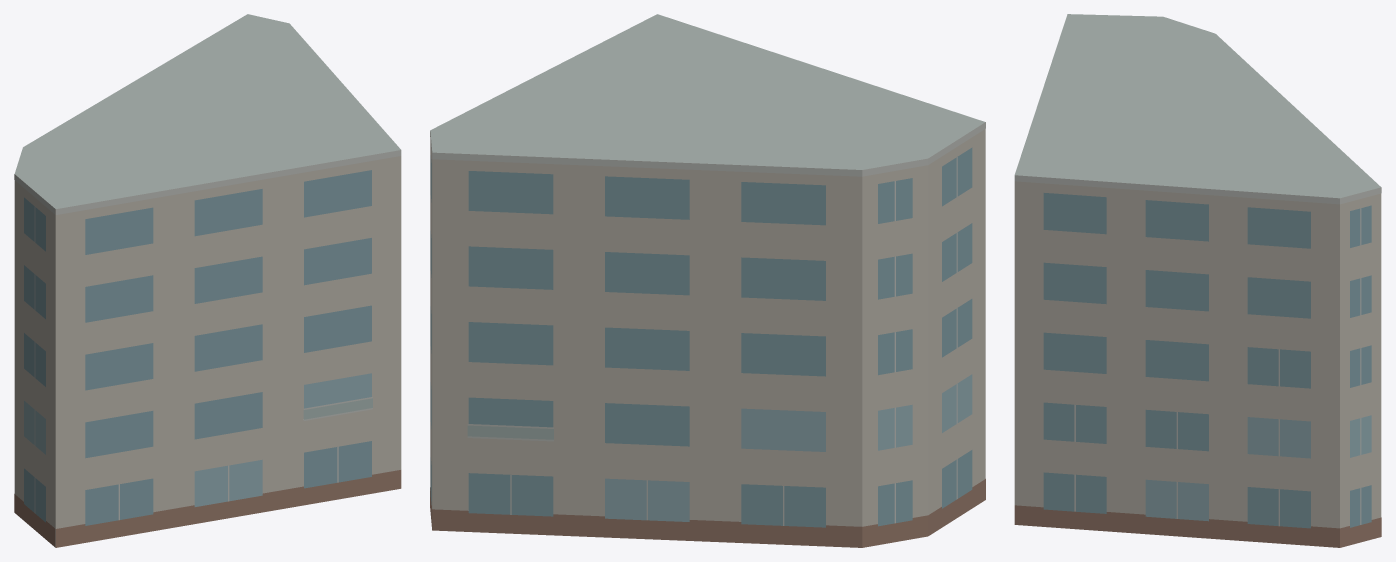
File: survey-upis-33013199.glb
The picture shows the model from 3 angles, left to right: view 1: azimuth 30°, elevation 25°; view 2: azimuth 150°, elevation 25°; view 3: azimuth 270°, elevation 25°; orthographic projection. The views are drawn at different scales.
Parts seen in each view (by area): view 1: survey-upis-33013199.tmp; view 2: survey-upis-33013199.tmp; view 3: survey-upis-33013199.tmp.
Part boxes in pixels (x1,y1,x2,y2): survey-upis-33013199.tmp: [14, 14, 401, 547]; survey-upis-33013199.tmp: [430, 14, 985, 547]; survey-upis-33013199.tmp: [1014, 14, 1381, 547].
Bounding box in the file's own units: 15.72 × 13.9 × 13.23.
